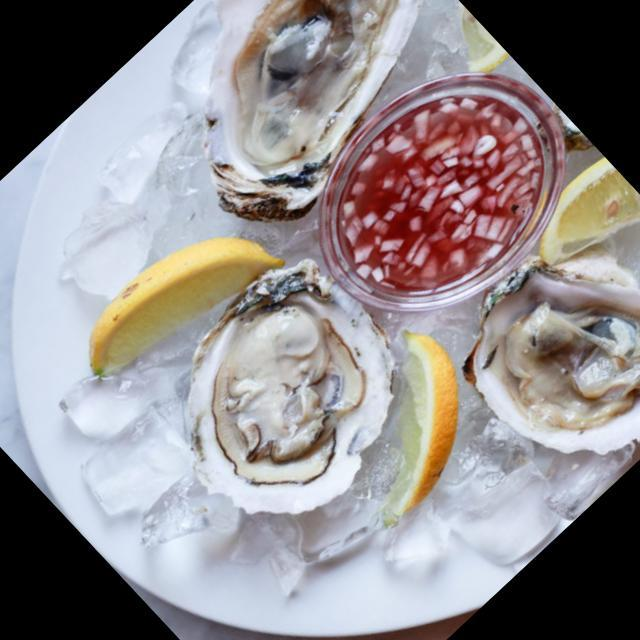Oyster-Open: (186, 264, 374, 503), (210, 0, 400, 222), (463, 258, 640, 455)
